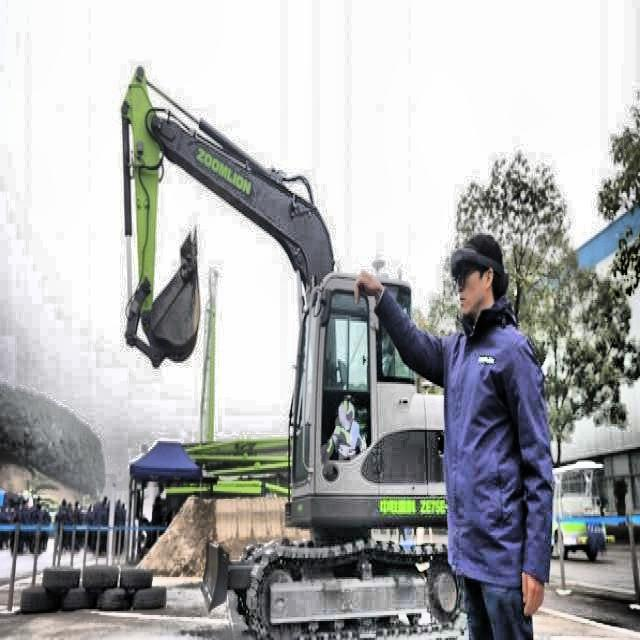bull_dozer/loader/grader: (119, 63, 475, 640)
person: (353, 231, 555, 640)
